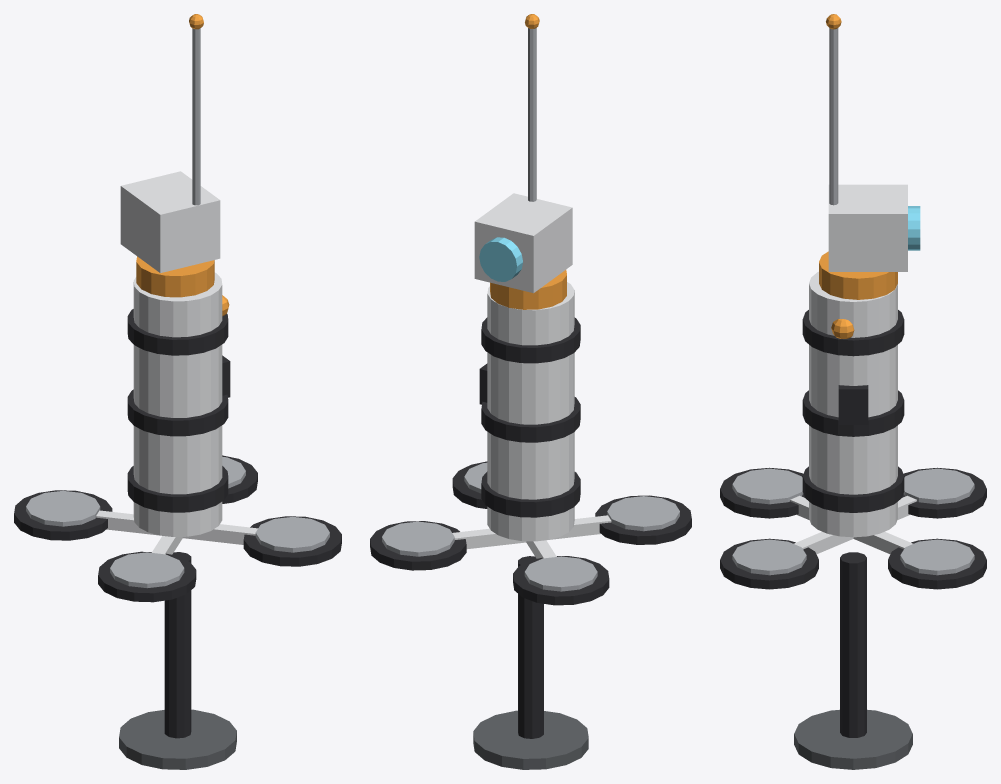
File: SM_Unit_ScoutDrone.fbx
The picture shows the model from 3 angles, left to right: view 1: azimuth 30°, elevation 25°; view 2: azimuth 150°, elevation 25°; view 3: azimuth 270°, elevation 25°; orthographic projection.
Visible parts, largest first — view 1: SM_Unit_ScoutDrone; view 2: SM_Unit_ScoutDrone; view 3: SM_Unit_ScoutDrone.
Boxes of the visible parts, x1,y1,x2,y2 form: SM_Unit_ScoutDrone: [14, 14, 341, 769]; SM_Unit_ScoutDrone: [370, 14, 691, 769]; SM_Unit_ScoutDrone: [720, 14, 986, 769].
Bounding box in the file's own units: 1.08 × 3.28 × 1.08.
